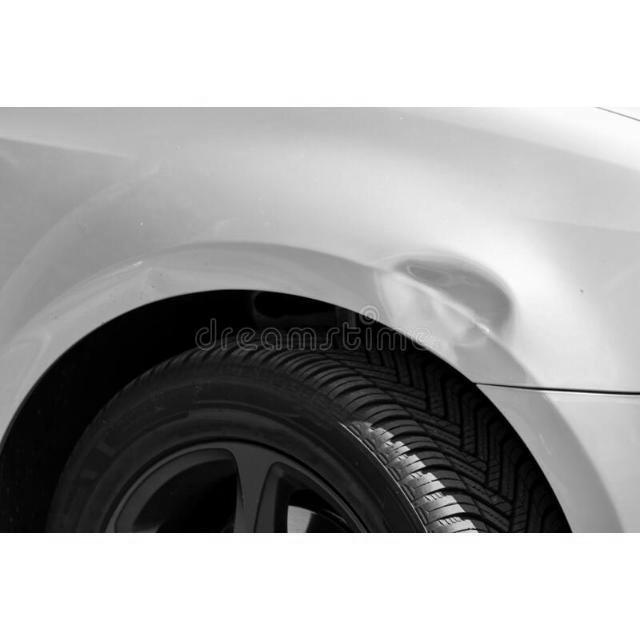fender-dent: (0, 110, 566, 417)
